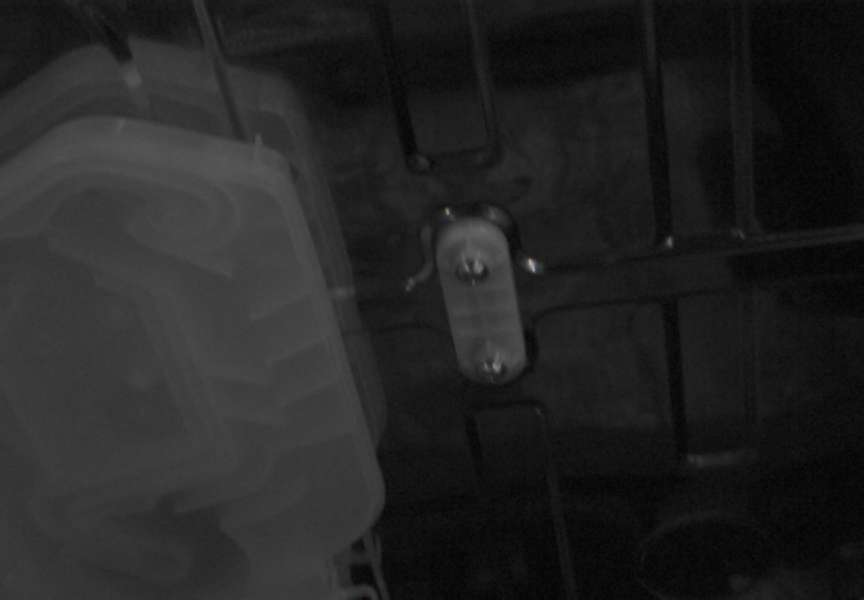screw: (455, 256, 489, 285), (477, 352, 507, 383)
